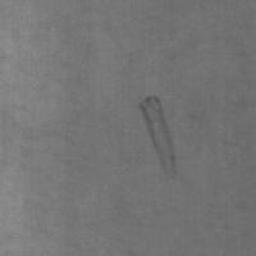Water spot: (140, 88, 179, 173)
